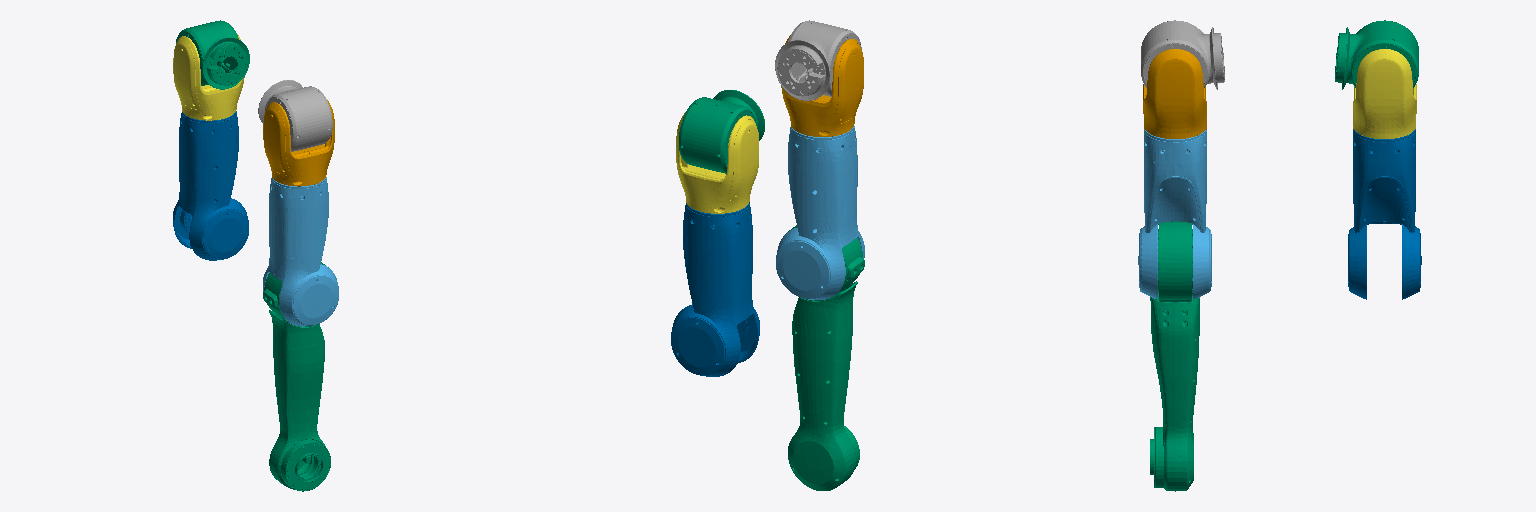
robot.urdf — bipedal_robot:
<?xml version='1.0' encoding='utf-8'?>
<robot name="bipedal_robot">
  <mujoco>
    <compiler meshdir="../meshes"/>
  </mujoco>

  <!-- base -->
  <link name="base_Link">
    <inertial>
      <origin xyz="0.00241 -0.00022 0.11116" rpy="0.0 0.0 0.0"/>
      <mass value="13.4"/>
      <inertia ixx="0.11544842" ixy="-6.32e-06" ixz="0.00636327" iyy="0.13779136" iyz="-2.76e-05" izz="0.10571445"/>
    </inertial>
    <visual>
      <geometry>
        <mesh filename="../meshes/base_Link.STL"/>
      </geometry>
    </visual>
    <collision>
      <geometry>
        <mesh filename="../meshes/base_Link.STL"/>
      </geometry>
    </collision>
  </link>

  <!-- base imu -->
  <link name="base_imu">
    <inertial>
      <origin xyz="0.0 0.0 0.0" rpy="0.0 0.0 0.0"/>
      <mass value="0.001"/>
      <inertia ixx="1e-08" ixy="0.0" ixz="0.0" iyy="1e-08" iyz="0.0" izz="1e-08"/>
    </inertial>
  </link>
  <joint name="base_imu_Joint" type="fixed">
    <origin xyz="0.0 0.0 0.0" rpy="0.0 0.0 0.0"/>
    <parent link="base_Link"/>
    <child link="base_imu"/>
  </joint>

  <!-- proximal pitch L Link -->
  <link name="proximal_pitch_L_Link">
    <inertial>
      <origin xyz="0.0033 0.06714 -0.00603" rpy="0.0 0.0 0.0"/>
      <mass value="2.05"/>
      <inertia ixx="0.00389778" ixy="-0.00013725" ixz="4.62e-05" iyy="0.00320014" iyz="5.272e-05" izz="0.00357523"/>
    </inertial>
    <visual>
      <geometry>
        <mesh filename="../meshes/proximal_pitch_L_Link.STL"/>
      </geometry>
    </visual>
    <collision>
      <geometry>
        <mesh filename="../meshes/proximal_pitch_L_Link.STL"/>
      </geometry>
    </collision>
  </link>
  <joint name="proximal_pitch_L_Joint" type="revolute">
    <origin xyz="-0.00044 0.09497 0.05446" rpy="0.0 0.0 0.0"/>
    <parent link="base_Link"/>
    <child link="proximal_pitch_L_Link"/>
    <axis xyz="0.0 0.9961947268929313 -0.0871554135479712"/>
    <limit lower="-3.141592653589793" upper="2.600540585471551" effort="200.0" velocity="17.0693"/>
  </joint>
  <link name="proximal_roll_L_Link">
    <inertial>
      <origin xyz="0.03623 0.00056 -0.08095" rpy="0.0 0.0 0.0"/>
      <mass value="1.75"/>
      <inertia ixx="0.00438693" ixy="-1.167e-05" ixz="-5.518e-05" iyy="0.00508428" iyz="-3.078e-05" izz="0.00295723"/>
    </inertial>
    <visual>
      <geometry>
        <mesh filename="../meshes/proximal_roll_L_Link.STL"/>
      </geometry>
    </visual>
    <collision>
      <geometry>
        <mesh filename="../meshes/proximal_roll_L_Link.STL"/>
      </geometry>
    </collision>
  </link>
  <joint name="proximal_roll_L_Joint" type="revolute">
    <origin xyz="-0.0352 0.07261 -0.00635" rpy="0.0 0.0 0.0"/>
    <parent link="proximal_pitch_L_Link"/>
    <child link="proximal_roll_L_Link"/>
    <axis xyz="1.0 0.0 0.0"/>
    <limit lower="-0.2617993877991494" upper="3.193952531149623" effort="200.0" velocity="17.0693"/>
  </joint>
  <link name="proximal_yaw_L_Link">
    <inertial>
      <origin xyz="-0.00241 0.00149 -0.10876" rpy="0.0 0.0 0.0"/>
      <mass value="1.6"/>
      <inertia ixx="0.01537565" ixy="-1.485e-05" ixz="0.00022048" iyy="0.01470715" iyz="0.00019641" izz="0.00374848"/>
    </inertial>
    <visual>
      <geometry>
        <mesh filename="../meshes/proximal_yaw_L_Link.STL"/>
      </geometry>
    </visual>
    <collision>
      <geometry>
        <mesh filename="../meshes/proximal_yaw_L_Link.STL"/>
      </geometry>
    </collision>
  </link>
  <joint name="proximal_yaw_L_Joint" type="revolute">
    <origin xyz="0.0352 0.0 -0.1348" rpy="0.0 0.0 0.0"/>
    <parent link="proximal_roll_L_Link"/>
    <child link="proximal_yaw_L_Link"/>
    <axis xyz="0.0 0.0 1.0"/>
    <limit lower="-3.6651914291880923" upper="1.4835298641951802" effort="70.0" velocity="16.3363"/>
  </joint>
  <link name="knee_L_Link">
    <inertial>
      <origin xyz="-0.00233 -0.02777 -0.12898" rpy="0.0 0.0 0.0"/>
      <mass value="4.72"/>
      <inertia ixx="0.11050247" ixy="5.913e-05" ixz="-0.00088465" iyy="0.11293693" iyz="0.00289826" izz="0.00653959"/>
    </inertial>
    <visual>
      <geometry>
        <mesh filename="../meshes/knee_L_Link.STL"/>
      </geometry>
    </visual>
    <collision>
      <geometry>
        <mesh filename="../meshes/knee_L_Link.STL"/>
      </geometry>
    </collision>
  </link>
  <joint name="knee_L_Joint" type="revolute">
    <origin xyz="0.004 0.0319 -0.2152" rpy="0.0 0.0 0.0"/>
    <parent link="proximal_yaw_L_Link"/>
    <child link="knee_L_Link"/>
    <axis xyz="0.0 1.0 0.0"/>
    <limit lower="-2.6179938779914944" upper="0.2617993877991494" effort="200.0" velocity="17.0693"/>
  </joint>
  <link name="wheel_L_Link">
    <inertial>
      <origin xyz="0.00104 0.00488 0.00083" rpy="0.0 0.0 0.0"/>
      <mass value="0.95"/>
      <inertia ixx="0.00230499" ixy="1.32e-06" ixz="6.311e-05" iyy="0.00437309" iyz="1.34e-06" izz="0.0022514"/>
    </inertial>
    <visual>
      <geometry>
        <mesh filename="../meshes/wheel_L_Link.STL"/>
      </geometry>
    </visual>
    <collision>
      <origin xyz="0.0 0.003 0.0" rpy="1.5707963267948966 0.0 0.0"/>
      <geometry>
        <cylinder radius="0.1" length="0.045"/>
      </geometry>
    </collision>
  </link>
  <joint name="wheel_L_Joint" type="revolute">
    <origin xyz="-0.004 0.0131 -0.35" rpy="0.0 0.0 0.0"/>
    <parent link="knee_L_Link"/>
    <child link="wheel_L_Link"/>
    <axis xyz="0.0 1.0 0.0"/>
    <limit lower="-1745329.2519943295" upper="1745329.2519943295" effort="22.0" velocity="41.89"/>
  </joint>

  <!-- proximal pitch R Link -->
  <link name="proximal_pitch_R_Link">
    <inertial>
      <origin xyz="0.0033 -0.06714 -0.00603" rpy="-0.0 0.0 -0.0"/>
      <mass value="2.05"/>
      <inertia ixx="0.00389778" ixy="0.00013725" ixz="4.62e-05" iyy="0.00320014" iyz="-5.272e-05" izz="0.00357523"/>
    </inertial>
    <visual>
      <geometry>
        <mesh filename="../meshes/proximal_pitch_R_Link.STL"/>
      </geometry>
    </visual>
    <collision>
      <geometry>
        <mesh filename="../meshes/proximal_pitch_R_Link.STL"/>
      </geometry>
    </collision>
  </link>
  <joint name="proximal_pitch_R_Joint" type="revolute">
    <origin xyz="-0.00044 -0.09497 0.05446" rpy="0.0 0.0 0.0"/>
    <parent link="base_Link"/>
    <child link="proximal_pitch_R_Link"/>
    <axis xyz="0.0 0.9961947268929313 0.0871554135479712"/>
    <limit lower="-3.141592653589793" upper="2.600540585471551" effort="200.0" velocity="17.0693"/>
  </joint>
  <link name="proximal_roll_R_Link">
    <inertial>
      <origin xyz="0.03623 -0.00056 -0.08095" rpy="-0.0 0.0 -0.0"/>
      <mass value="1.75"/>
      <inertia ixx="0.00438693" ixy="1.167e-05" ixz="-5.518e-05" iyy="0.00508428" iyz="3.078e-05" izz="0.00295723"/>
    </inertial>
    <visual>
      <geometry>
        <mesh filename="../meshes/proximal_roll_R_Link.STL"/>
      </geometry>
    </visual>
    <collision>
      <geometry>
        <mesh filename="../meshes/proximal_roll_R_Link.STL"/>
      </geometry>
    </collision>
  </link>
  <joint name="proximal_roll_R_Joint" type="revolute">
    <origin xyz="-0.0352 -0.07261 -0.00635" rpy="-0.0 0.0 -0.0"/>
    <parent link="proximal_pitch_R_Link"/>
    <child link="proximal_roll_R_Link"/>
    <axis xyz="1.0 0.0 0.0"/>
    <limit lower="-3.193952531149623" upper="0.2617993877991494" effort="200.0" velocity="17.0693"/>
  </joint>
  <link name="proximal_yaw_R_Link">
    <inertial>
      <origin xyz="-0.00241 -0.00149 -0.10876" rpy="-0.0 0.0 -0.0"/>
      <mass value="1.6"/>
      <inertia ixx="0.01537565" ixy="1.485e-05" ixz="0.00022048" iyy="0.01470715" iyz="-0.00019641" izz="0.00374848"/>
    </inertial>
    <visual>
      <geometry>
        <mesh filename="../meshes/proximal_yaw_R_Link.STL"/>
      </geometry>
    </visual>
    <collision>
      <geometry>
        <mesh filename="../meshes/proximal_yaw_R_Link.STL"/>
      </geometry>
    </collision>
  </link>
  <joint name="proximal_yaw_R_Joint" type="revolute">
    <origin xyz="0.0352 -0.0 -0.1348" rpy="-0.0 0.0 -0.0"/>
    <parent link="proximal_roll_R_Link"/>
    <child link="proximal_yaw_R_Link"/>
    <axis xyz="0.0 0.0 1.0"/>
    <limit lower="-1.4835298641951802" upper="3.6651914291880923" effort="70.0" velocity="16.3363"/>
  </joint>
  <link name="knee_R_Link">
    <inertial>
      <origin xyz="-0.00233 0.02777 -0.12898" rpy="-0.0 0.0 -0.0"/>
      <mass value="4.72"/>
      <inertia ixx="0.11050247" ixy="-5.913e-05" ixz="-0.00088465" iyy="0.11293693" iyz="-0.00289826" izz="0.00653959"/>
    </inertial>
    <visual>
      <geometry>
        <mesh filename="../meshes/knee_R_Link.STL"/>
      </geometry>
    </visual>
    <collision>
      <geometry>
        <mesh filename="../meshes/knee_R_Link.STL"/>
      </geometry>
    </collision>
  </link>
  <joint name="knee_R_Joint" type="revolute">
    <origin xyz="0.004 -0.0319 -0.2152" rpy="-0.0 0.0 -0.0"/>
    <parent link="proximal_yaw_R_Link"/>
    <child link="knee_R_Link"/>
    <axis xyz="0.0 1.0 0.0"/>
    <limit lower="-2.6179938779914944" upper="0.2617993877991494" effort="200.0" velocity="17.0693"/>
  </joint>
  <link name="wheel_R_Link">
    <inertial>
      <origin xyz="0.00104 -0.00488 0.00083" rpy="-0.0 0.0 -0.0"/>
      <mass value="0.95"/>
      <inertia ixx="0.00230499" ixy="-1.32e-06" ixz="6.311e-05" iyy="0.00437309" iyz="-1.34e-06" izz="0.0022514"/>
    </inertial>
    <visual>
      <geometry>
        <mesh filename="../meshes/wheel_R_Link.STL"/>
      </geometry>
    </visual>
    <collision>
      <origin xyz="0.0 -0.003 0.0" rpy="1.5707963267948966 0.0 0.0"/>
      <geometry>
        <cylinder radius="0.1" length="0.045"/>
      </geometry>
    </collision>
  </link>
  <joint name="wheel_R_Joint" type="revolute">
    <origin xyz="-0.004 -0.0131 -0.35" rpy="-0.0 0.0 -0.0"/>
    <parent link="knee_R_Link"/>
    <child link="wheel_R_Link"/>
    <axis xyz="0.0 1.0 0.0"/>
    <limit lower="-1745329.2519943295" upper="1745329.2519943295" effort="22.0" velocity="41.89"/>
  </joint>

  <!-- d435 Link -->
  <link name="d435_Link">
    <inertial>
      <origin xyz="0.0 0.0 0.0" rpy="0.0 0.0 0.0"/>
      <mass value="0.001"/>
      <inertia ixx="1e-07" ixy="0.0" ixz="0.0" iyy="1e-07" iyz="0.0" izz="1e-07"/>
    </inertial>
  </link>
  <joint name="d435_Joint" type="fixed">
    <origin xyz="0.0968 0.01759 -0.00409" rpy="0.0 2.7227 0.0"/>
    <parent link="base_Link"/>
    <child link="d435_Link"/>
  </joint>
  <link name="d435_optical_frame">
    <inertial>
      <origin xyz="0.0 0.0 0.0" rpy="0.0 0.0 0.0"/>
      <mass value="0.001"/>
      <inertia ixx="1e-07" ixy="0.0" ixz="0.0" iyy="1e-07" iyz="0.0" izz="1e-07"/>
    </inertial>
  </link>
  <joint name="d435_optical_Joint" type="fixed">
    <origin xyz="0.0 0.0 0.0" rpy="-1.5707963267948966 0.0 -1.5707963267948966"/>
    <parent link="d435_Link"/>
    <child link="d435_optical_frame"/>
  </joint>
</robot>

--- Render facts (derived) ---
3 views of the same robot in one strip: view 1: azimuth 30°, elevation 25°; view 2: azimuth 150°, elevation 25°; view 3: azimuth 270°, elevation 25° (orthographic).
Robot: bipedal_robot — 14 links, 13 joints (10 revolute, 3 fixed); root link base_Link; default pose: all joints at 0.
Visible links, largest first — view 1: knee_R_Link, proximal_yaw_L_Link, proximal_yaw_R_Link, proximal_roll_R_Link, proximal_pitch_R_Link, proximal_pitch_L_Link, proximal_roll_L_Link; view 2: knee_R_Link, proximal_yaw_L_Link, proximal_yaw_R_Link, proximal_roll_L_Link, proximal_pitch_L_Link, proximal_pitch_R_Link, proximal_roll_R_Link; view 3: knee_R_Link, proximal_yaw_L_Link, proximal_yaw_R_Link, proximal_roll_L_Link, proximal_roll_R_Link, proximal_pitch_R_Link, proximal_pitch_L_Link.
Link boxes in pixels (box(x1,y1,x2,y2)): knee_R_Link: box(263, 262, 330, 491); proximal_yaw_L_Link: box(173, 111, 248, 260); proximal_yaw_R_Link: box(263, 177, 338, 326); proximal_roll_R_Link: box(263, 100, 334, 186); proximal_pitch_R_Link: box(258, 80, 332, 151); proximal_pitch_L_Link: box(176, 20, 249, 89); proximal_roll_L_Link: box(173, 34, 244, 120); knee_R_Link: box(788, 225, 864, 490); proximal_yaw_L_Link: box(671, 202, 759, 376); proximal_yaw_R_Link: box(776, 126, 864, 299); proximal_roll_L_Link: box(676, 112, 758, 213); proximal_pitch_L_Link: box(679, 90, 764, 173); proximal_pitch_R_Link: box(775, 20, 861, 100); proximal_roll_R_Link: box(781, 35, 863, 136); knee_R_Link: box(1150, 221, 1199, 491); proximal_yaw_L_Link: box(1348, 129, 1421, 299); proximal_yaw_R_Link: box(1138, 129, 1211, 299); proximal_roll_L_Link: box(1353, 49, 1416, 138); proximal_roll_R_Link: box(1143, 49, 1206, 138); proximal_pitch_R_Link: box(1141, 20, 1224, 89); proximal_pitch_L_Link: box(1335, 20, 1418, 89).
Bounding box of the posed robot: 0.1351 × 0.4536 × 0.8109 m (x, y, z).
Meshes: 11 distinct files referenced, 7 mesh visuals loaded (7 binary STL); not drawn: 4 (reference not matched to a file when rendering).
